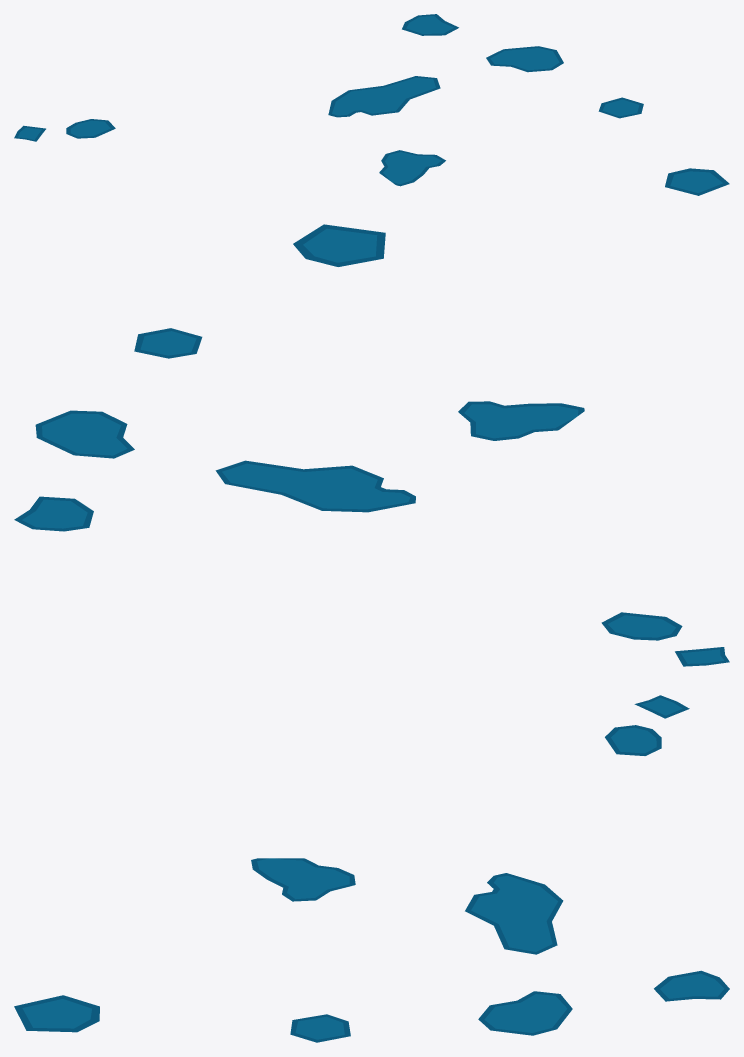
File: kd_connection_world-outer_surface_15_0.glb
3 renders of one model, top to bottom at view 1: azimuth 30°, elevation 25°; view 2: azimuth 150°, elevation 25°; view 3: azimuth 270°, elevation 25°, orthographic. The views are drawn at different scales.
Visible parts, largest first — view 1: kd_connection_world-outer_surface_15_0; view 2: kd_connection_world-outer_surface_15_0; view 3: kd_connection_world-outer_surface_15_0.
Part boxes in pixels (x1,y1,x2,y2): kd_connection_world-outer_surface_15_0: (14,14,729,195); kd_connection_world-outer_surface_15_0: (14,224,729,666); kd_connection_world-outer_surface_15_0: (14,695,729,1042).
Size of the model in its own units: 7111 by 0 by 6191.
Materials: 1 (1 with a texture image).
